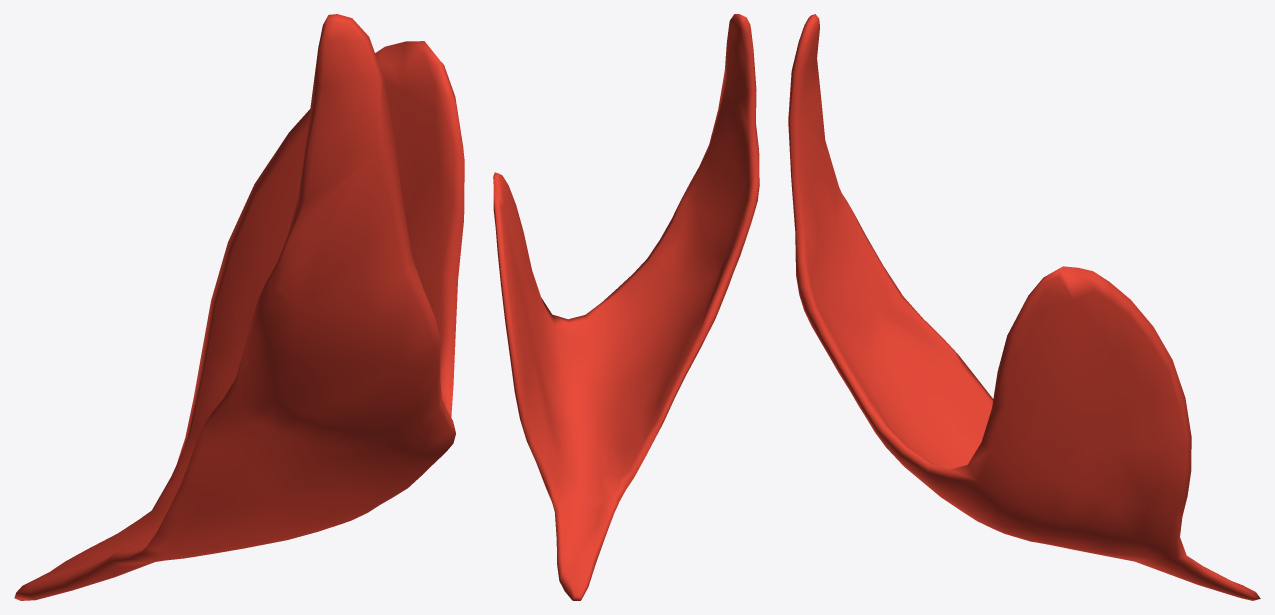
The model's file is Sartorius_muscle_on_upper_anterior_iliac_spine.l_Generated_Mesh.glb.
3 renders of one model, left to right at view 1: azimuth 30°, elevation 25°; view 2: azimuth 150°, elevation 25°; view 3: azimuth 270°, elevation 25°, orthographic. The views are drawn at different scales.
Parts seen in each view (by area): view 1: Sartorius_muscle_on_upper_anterior_iliac_spine.l_Generated_M; view 2: Sartorius_muscle_on_upper_anterior_iliac_spine.l_Generated_M; view 3: Sartorius_muscle_on_upper_anterior_iliac_spine.l_Generated_M.
Boxes of the visible parts, <box> form: Sartorius_muscle_on_upper_anterior_iliac_spine.l_Generated_M: <box>14,14,464,600</box>; Sartorius_muscle_on_upper_anterior_iliac_spine.l_Generated_M: <box>493,14,759,600</box>; Sartorius_muscle_on_upper_anterior_iliac_spine.l_Generated_M: <box>788,14,1260,600</box>.
Size of the model in its own units: 0.00929 by 0.0221 by 0.0161.
